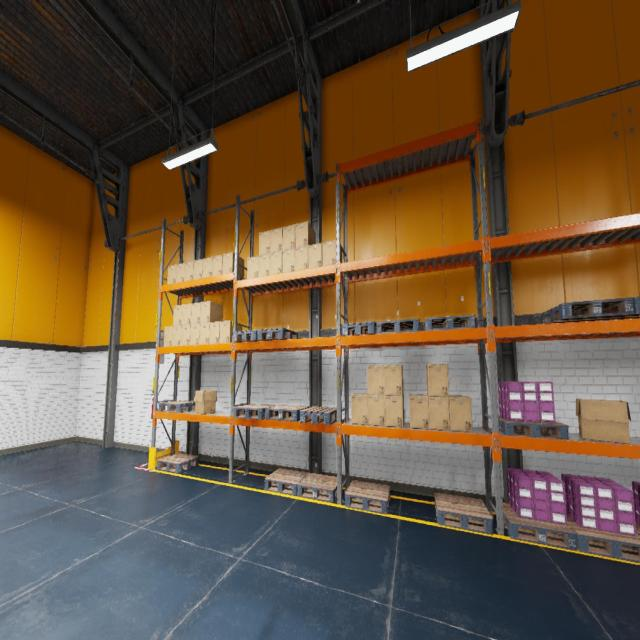box: (576, 399, 631, 444), (449, 395, 472, 432), (427, 395, 450, 430), (426, 364, 449, 396), (409, 394, 429, 429), (322, 240, 342, 274), (385, 394, 404, 427), (384, 364, 403, 396), (222, 252, 244, 278), (194, 390, 217, 414), (351, 393, 368, 425), (295, 221, 315, 248), (219, 320, 242, 343), (368, 395, 385, 426), (200, 301, 223, 323), (368, 365, 384, 395), (308, 242, 322, 268), (282, 224, 295, 250), (282, 248, 295, 273), (295, 246, 308, 270), (270, 227, 282, 252), (270, 251, 282, 274), (259, 230, 270, 255), (258, 254, 270, 276), (209, 321, 220, 344), (247, 256, 258, 278), (200, 322, 210, 344), (190, 323, 200, 345), (212, 254, 222, 276), (193, 258, 203, 279), (202, 257, 212, 277), (181, 324, 190, 346), (191, 302, 200, 324), (182, 303, 191, 325), (172, 325, 181, 346), (173, 305, 182, 326), (184, 261, 193, 281), (167, 264, 176, 284), (164, 326, 172, 346), (176, 263, 184, 282)
pallets: (503, 502, 577, 550), (566, 515, 640, 563), (434, 492, 493, 534), (542, 297, 634, 323), (498, 416, 569, 439), (345, 480, 390, 514), (297, 473, 342, 502), (264, 468, 308, 496), (423, 314, 476, 330), (157, 453, 199, 473), (265, 406, 309, 422), (376, 318, 420, 334), (233, 404, 277, 419), (300, 406, 336, 424), (618, 296, 640, 319), (257, 328, 298, 340), (342, 322, 376, 336), (158, 400, 196, 412), (233, 329, 265, 342), (636, 523, 640, 535)
